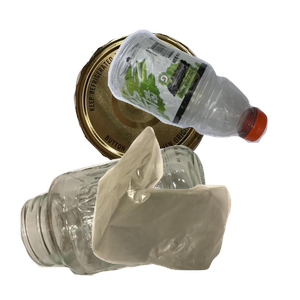glass: (18, 143, 227, 300)
metal: (71, 29, 276, 193)
plastic: (105, 27, 300, 162)
trash: (89, 124, 300, 300)
